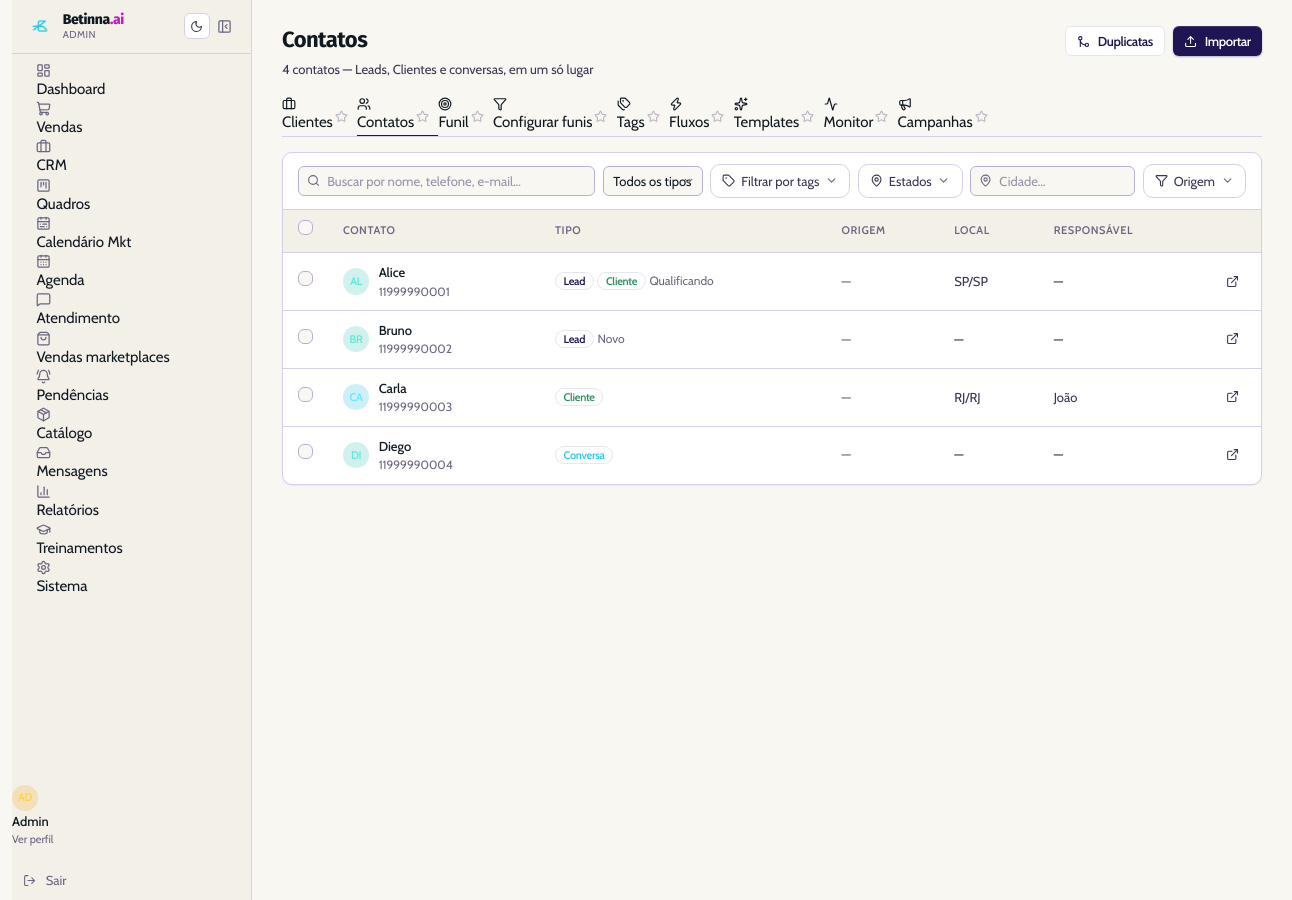
selecionar todos da página › checkbox do header seleciona todos (4 contatos)
Click the checkbox named "Selecionar todos da página" at (306, 228), box [298, 220, 313, 235]
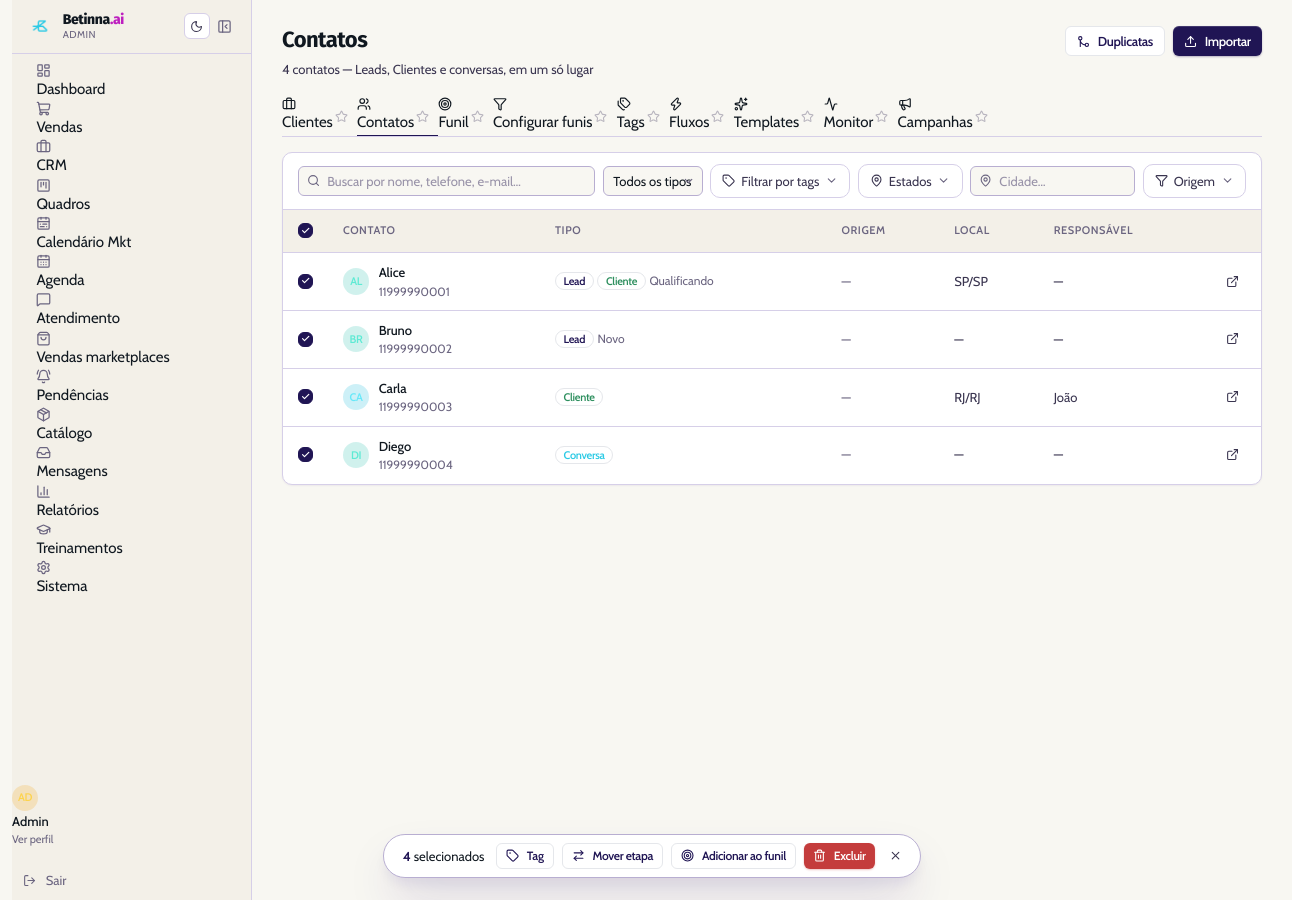
Result: the text "4 selecionados Tag Mover etapa Adicionar ao funil Excluir" is shown at [383, 834, 921, 878]
